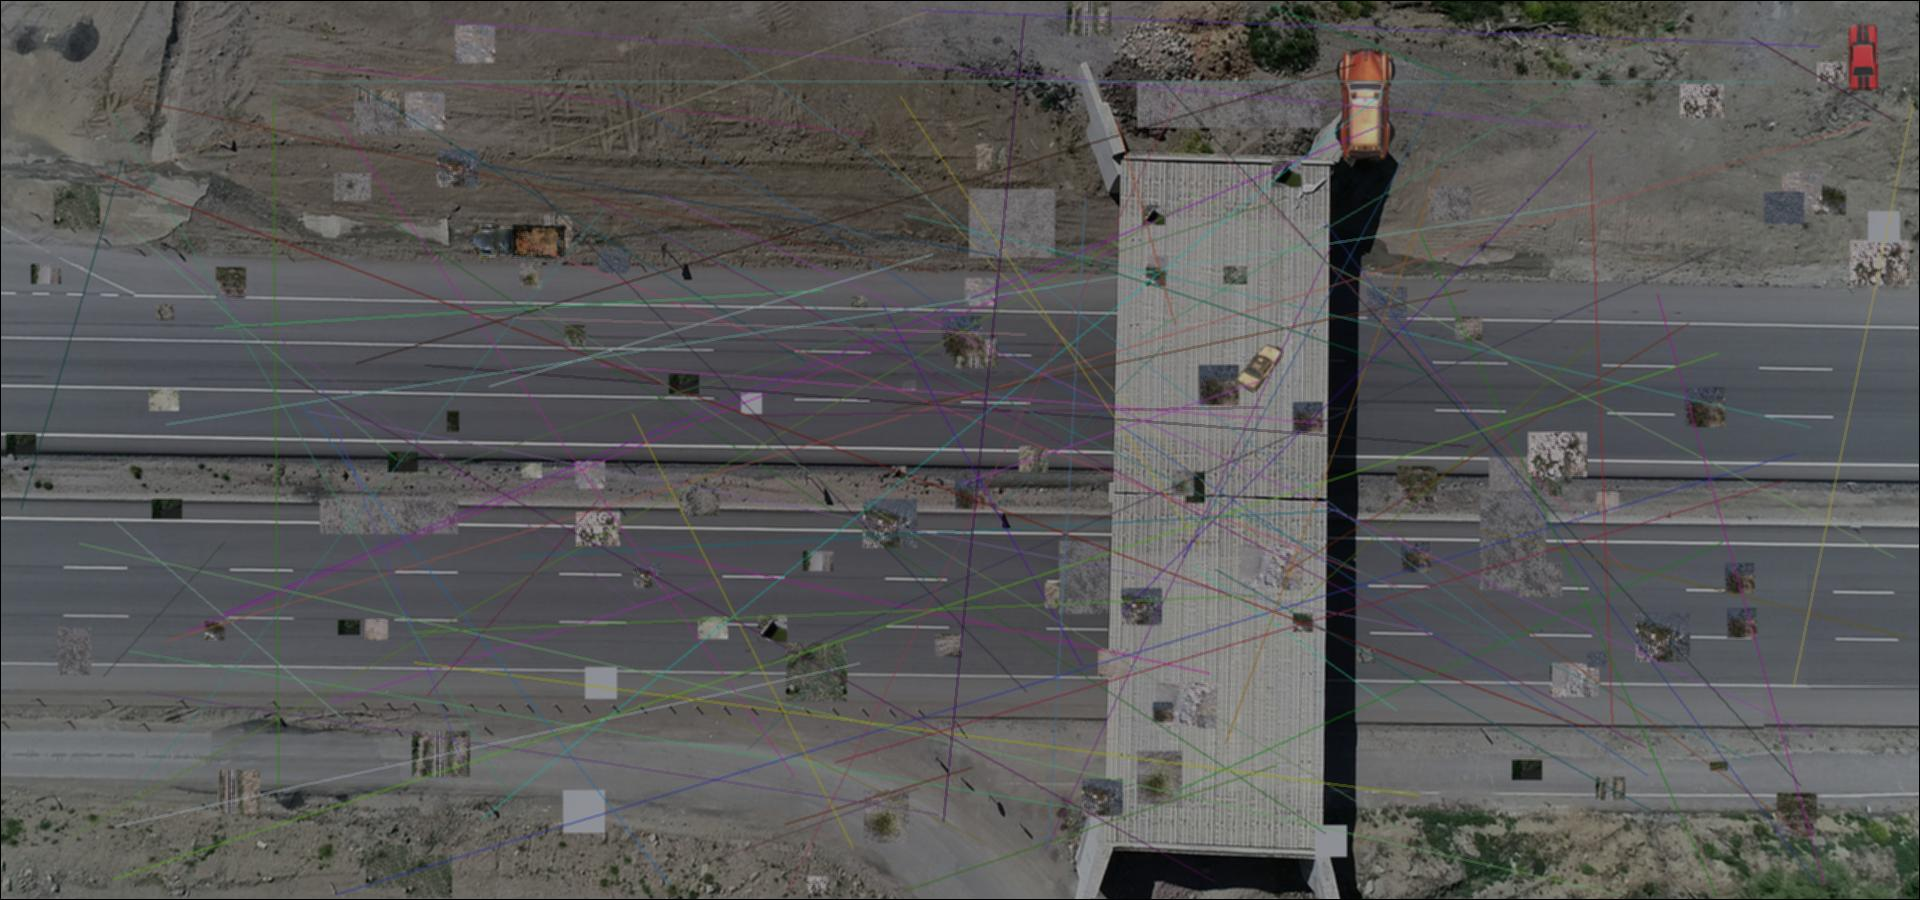arac: (1335, 47, 1398, 160), (471, 217, 569, 264), (1845, 22, 1880, 94), (1236, 344, 1283, 393)
